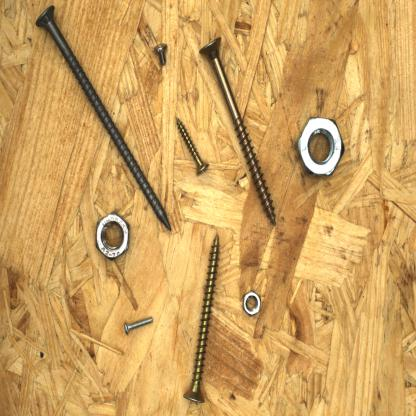screw: (33, 1, 174, 235), (195, 33, 280, 229), (180, 231, 222, 406), (173, 112, 211, 178), (122, 314, 156, 337), (151, 40, 171, 68)
